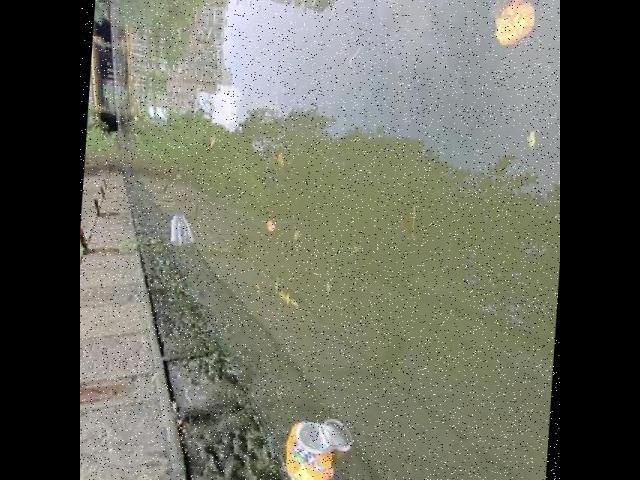Can: (285, 418, 353, 480)
